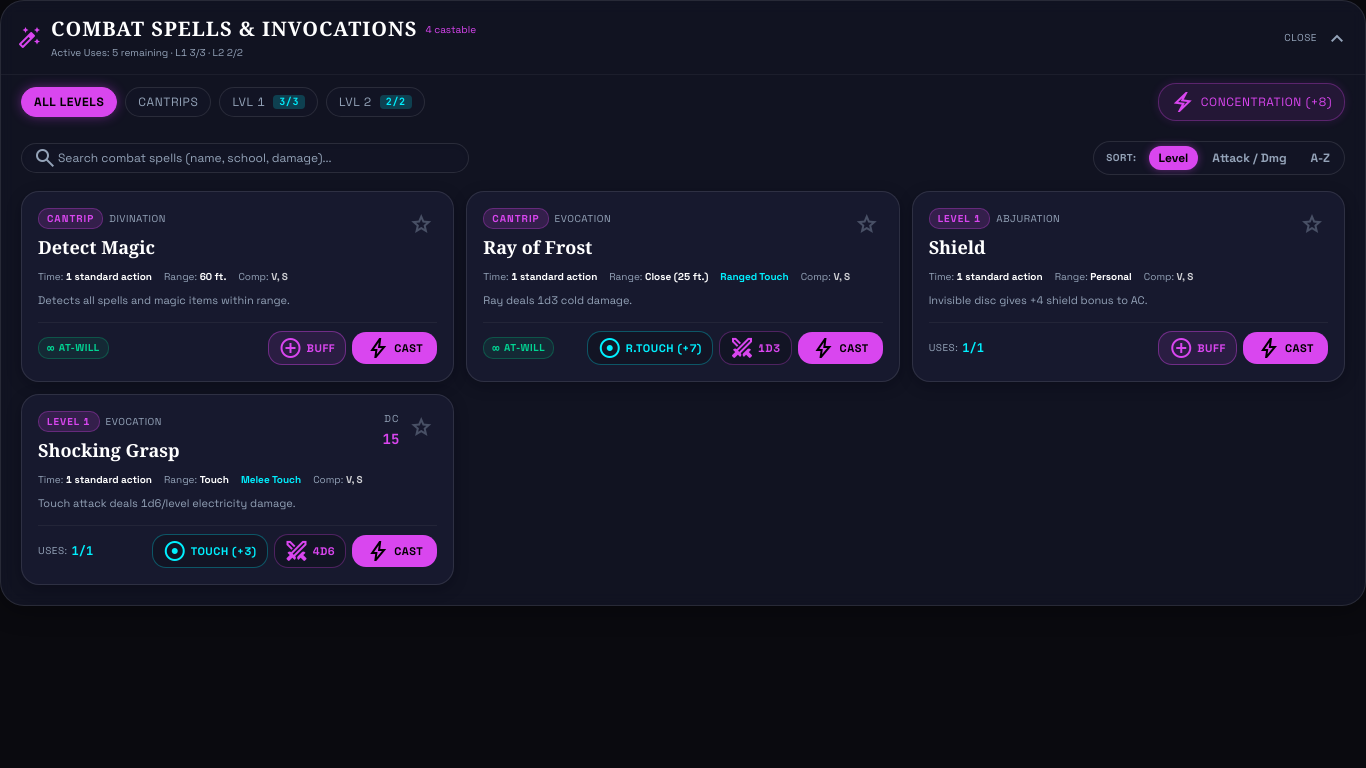
Test: CombatSpellsSection › filters spells by level when clicking level filter buttons
This screenshot has width=1366, height=768.
Note: Click "Cantrips" filter
Click the button "Cantrips": (168, 102) top-left (125, 87), bottom-right (211, 117)
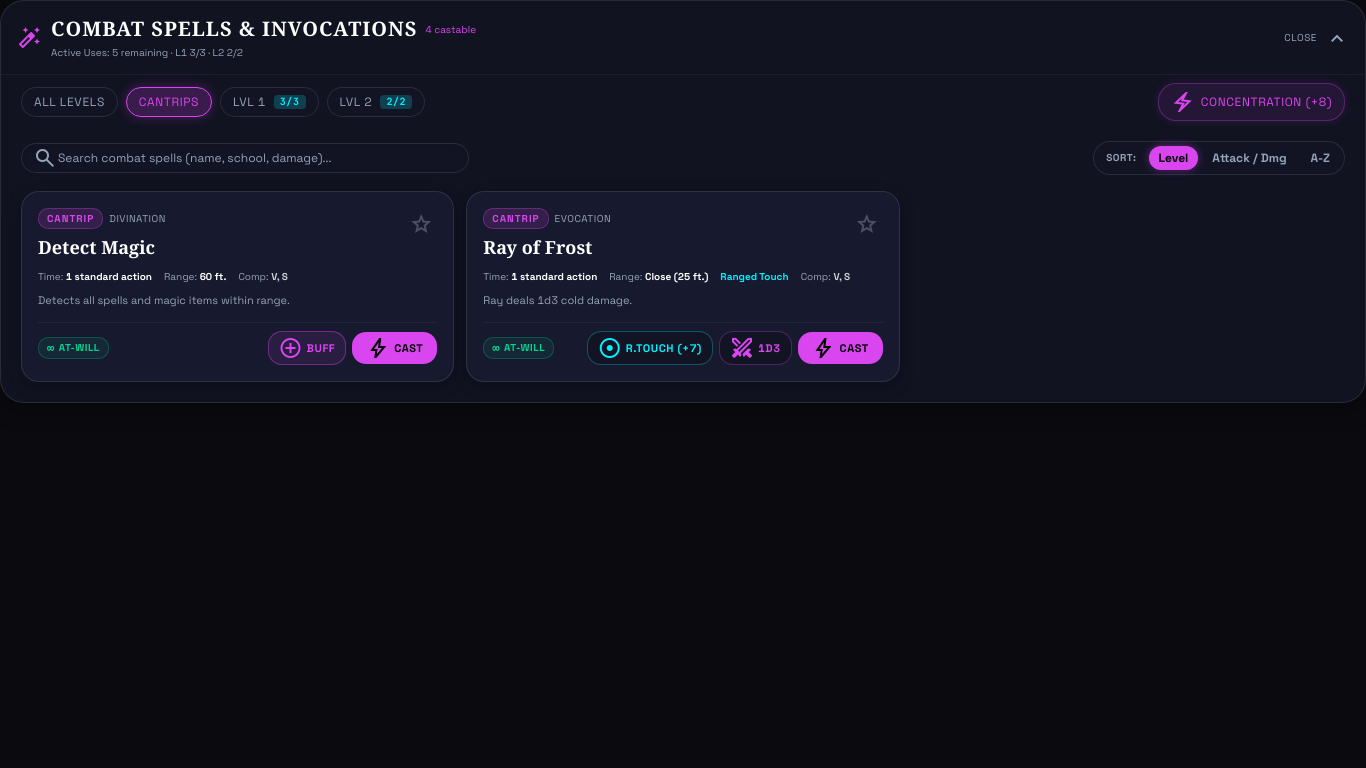
Expected: the heading "Ray of Frost" is shown, top-left (483, 235), bottom-right (592, 259)
Expected: the heading "Shocking Grasp" is gone
Expected: the heading "Shield" is gone
Note: Click "Lvl 1" filter
Click the button "Lvl 1 3/3": (269, 102) top-left (220, 87), bottom-right (318, 117)
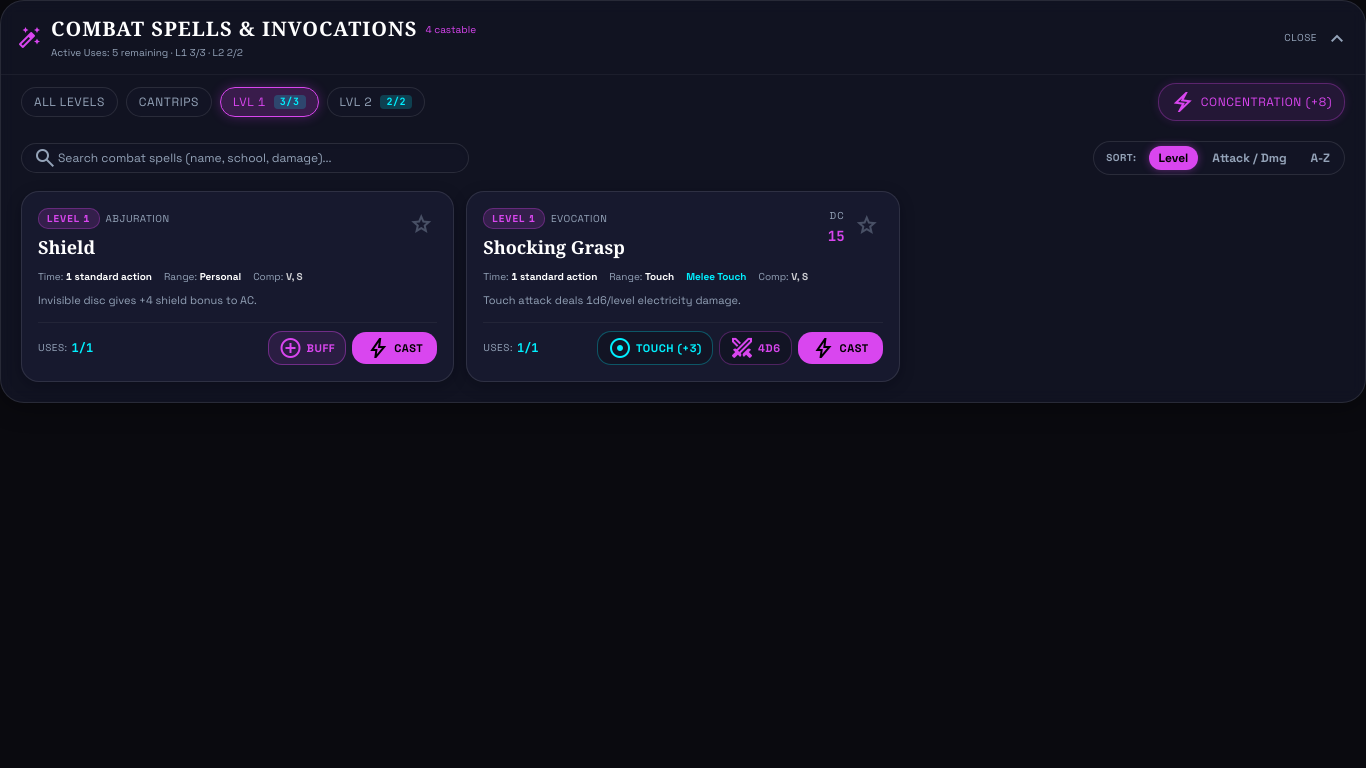
Expected: the heading "Ray of Frost" is gone
Expected: the heading "Shocking Grasp" is shown, top-left (483, 235), bottom-right (625, 259)
Expected: the heading "Shield" is shown, top-left (38, 235), bottom-right (95, 259)
Note: Click "All Levels"
Click the button "All Levels": (69, 102) top-left (21, 87), bottom-right (118, 117)
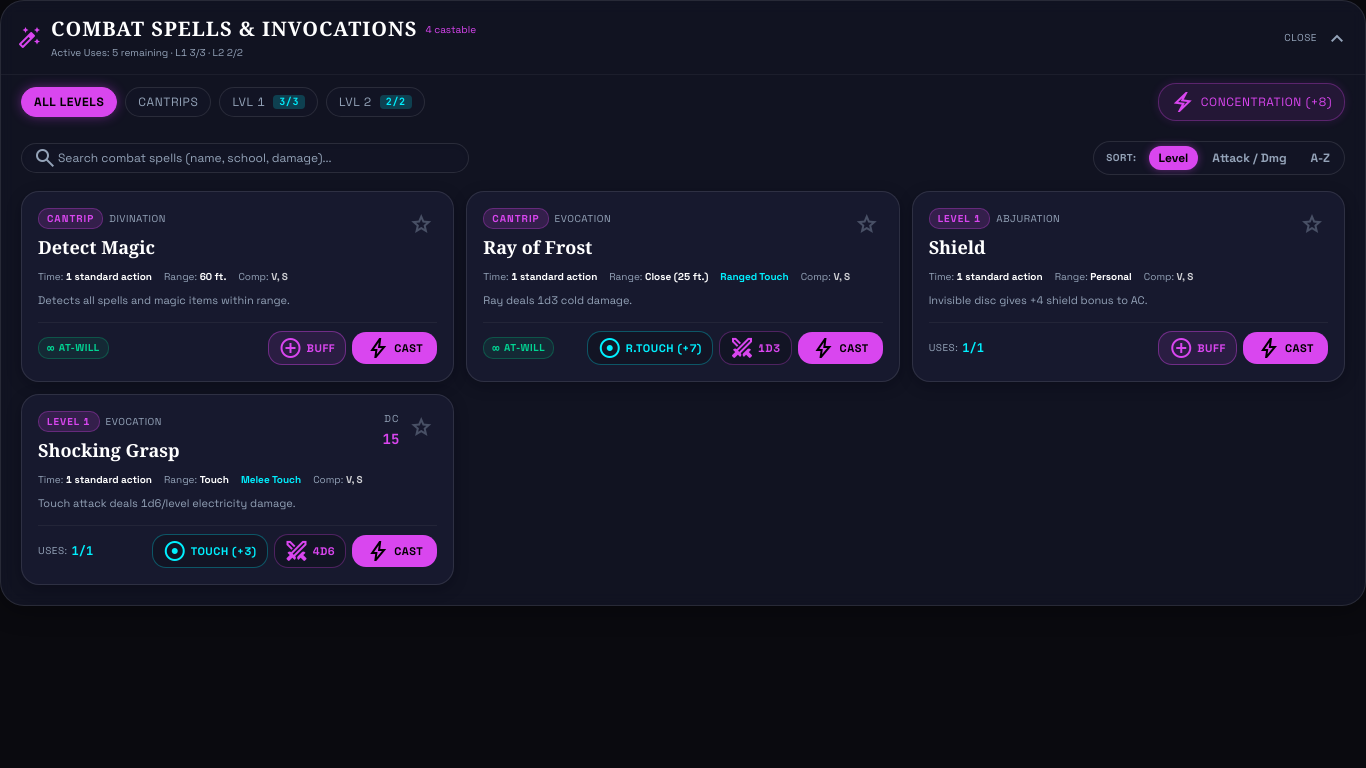
Expected: the heading "Shocking Grasp" is shown, top-left (38, 438), bottom-right (180, 462)
Expected: the heading "Ray of Frost" is shown, top-left (483, 235), bottom-right (592, 259)
